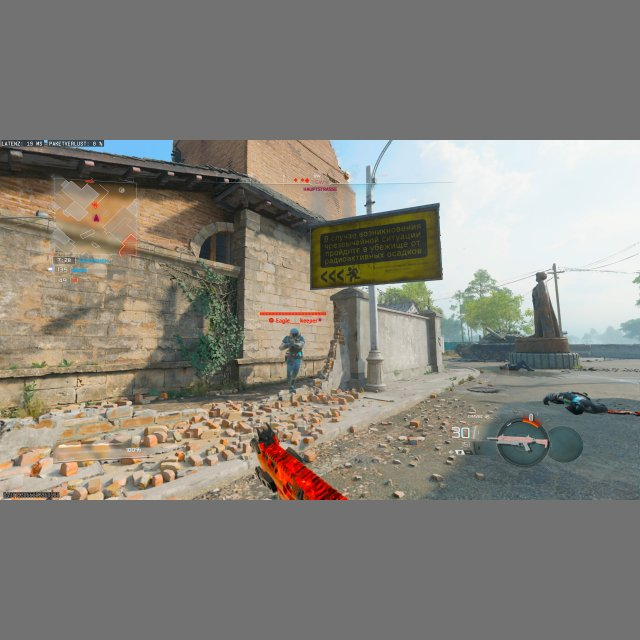head: (290, 327, 299, 338)
player: (280, 328, 305, 393)
